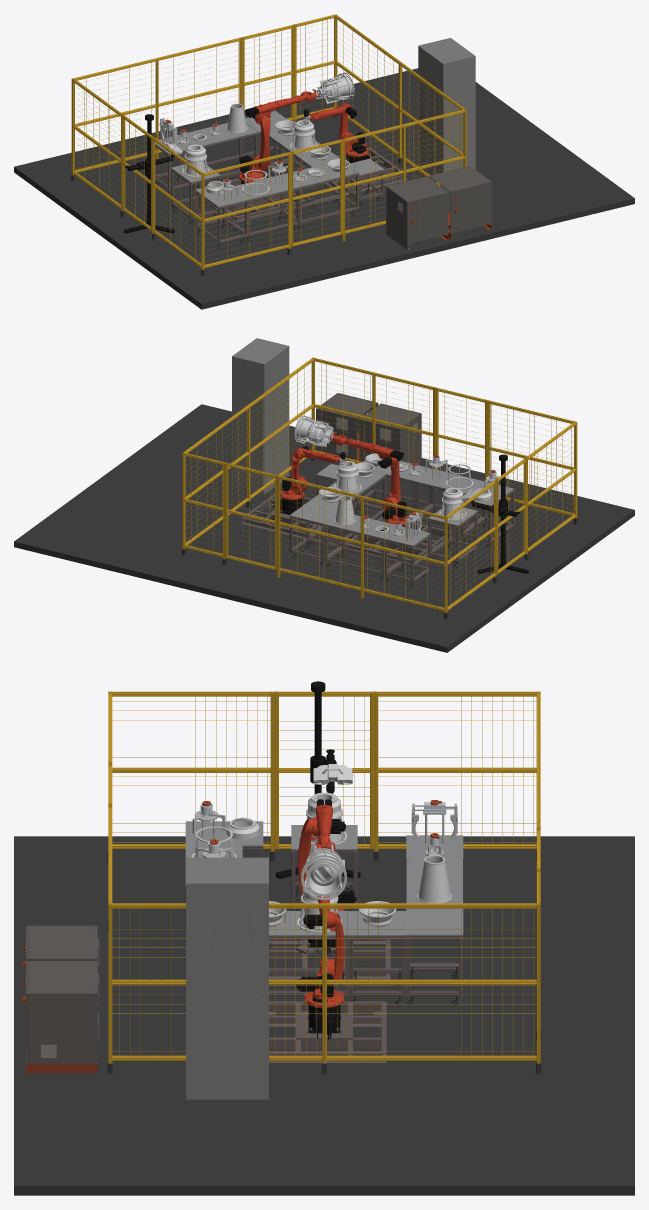
The picture shows the model from 3 angles, top to bottom: view 1: azimuth 30°, elevation 25°; view 2: azimuth 150°, elevation 25°; view 3: azimuth 270°, elevation 25°; orthographic projection. The views are drawn at different scales.
Visible parts, largest first — view 1: ground, Fencing, ElectricalCabinet, Brackets, RobotControlCabinet, Desktop, 凸台-拉伸4, Robot_B_joint2, Positioning, KZD; view 2: ground, Fencing, ElectricalCabinet, Brackets, RobotControlCabinet, Desktop, 凸台-拉伸4, Positioning, KZD; view 3: ground, Fencing, ElectricalCabinet, Brackets, RobotControlCabinet, Desktop, KZD, 凸台-拉伸4, RobotControlCabinetButtons, Robot_S_buttom, Positioning, NONE (+1 smaller).
Boxes of the visible parts, x1=… form: ground: x1=14, y1=68, x2=634, y2=309; Fencing: x1=71, y1=14, x2=466, y2=269; ElectricalCabinet: x1=418, y1=38, x2=475, y2=177; Brackets: x1=155, y1=131, x2=407, y2=243; RobotControlCabinet: x1=386, y1=166, x2=491, y2=250; Desktop: x1=155, y1=111, x2=384, y2=207; 凸台-拉伸4: x1=124, y1=114, x2=174, y2=233; Robot_B_joint2: x1=257, y1=116, x2=270, y2=173; Positioning: x1=162, y1=125, x2=325, y2=200; KZD: x1=226, y1=103, x2=247, y2=133; ground: x1=14, y1=404, x2=634, y2=652; Fencing: x1=182, y1=357, x2=577, y2=613; ElectricalCabinet: x1=232, y1=338, x2=289, y2=494; Brackets: x1=241, y1=474, x2=514, y2=582; RobotControlCabinet: x1=316, y1=393, x2=421, y2=463; Desktop: x1=289, y1=460, x2=513, y2=546; 凸台-拉伸4: x1=477, y1=454, x2=528, y2=573; Positioning: x1=333, y1=461, x2=498, y2=539; KZD: x1=335, y1=495, x2=355, y2=525; ground: x1=14, y1=836, x2=634, y2=1195; Fencing: x1=32, y1=691, x2=540, y2=1063; ElectricalCabinet: x1=186, y1=857, x2=268, y2=1099; Brackets: x1=185, y1=846, x2=463, y2=1063; RobotControlCabinet: x1=26, y1=925, x2=99, y2=1063; Desktop: x1=185, y1=821, x2=463, y2=935; KZD: x1=417, y1=855, x2=451, y2=903; 凸台-拉伸4: x1=275, y1=681, x2=360, y2=878; RobotControlCabinetButtons: x1=20, y1=938, x2=97, y2=1073; Robot_S_buttom: x1=308, y1=1004, x2=340, y2=1040; Positioning: x1=192, y1=809, x2=446, y2=923; NONE: x1=313, y1=764, x2=352, y2=785.
Bounding box in the file's own units: 8 × 2.4 × 6.
